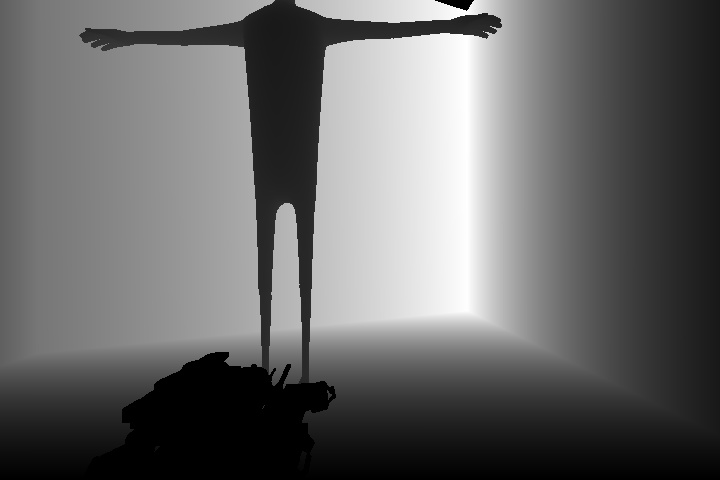alien: (76, 1, 505, 349)
